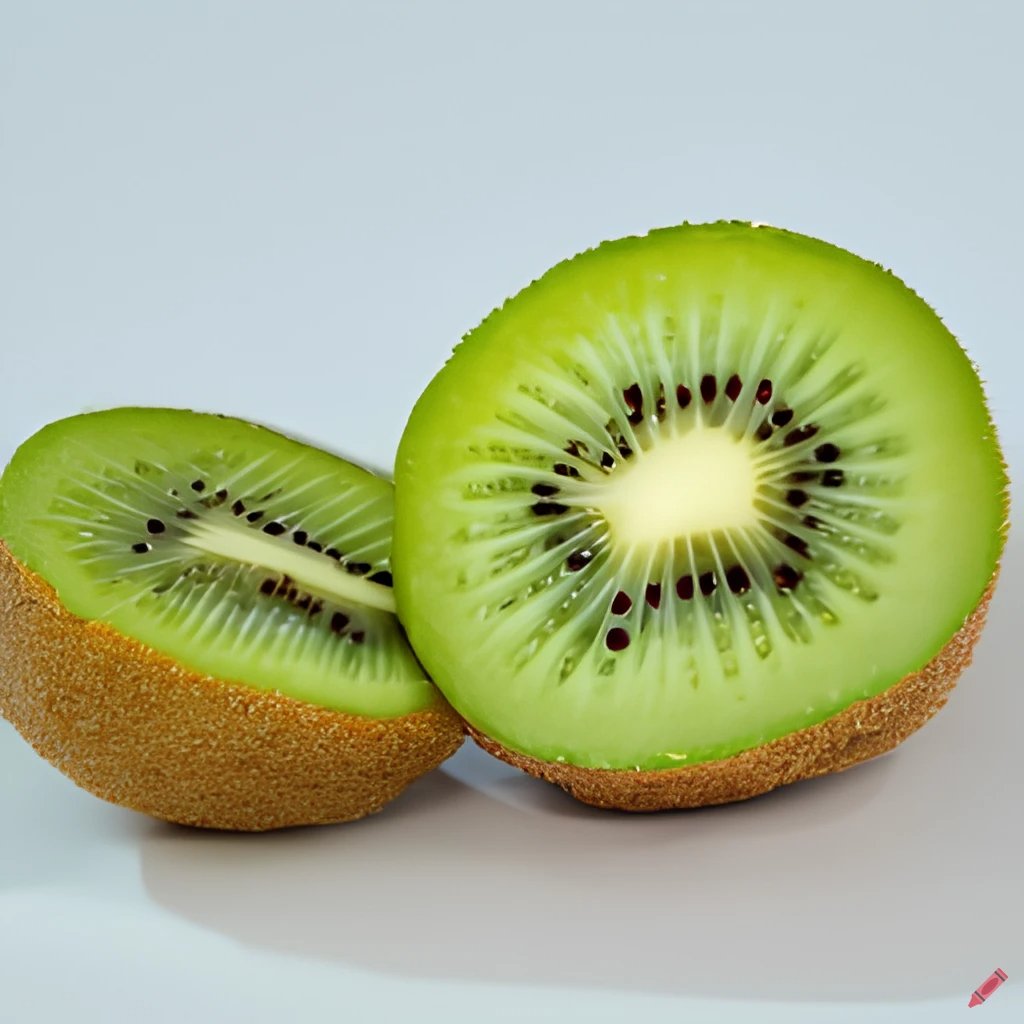Kiwi: (374, 186, 1013, 819)
